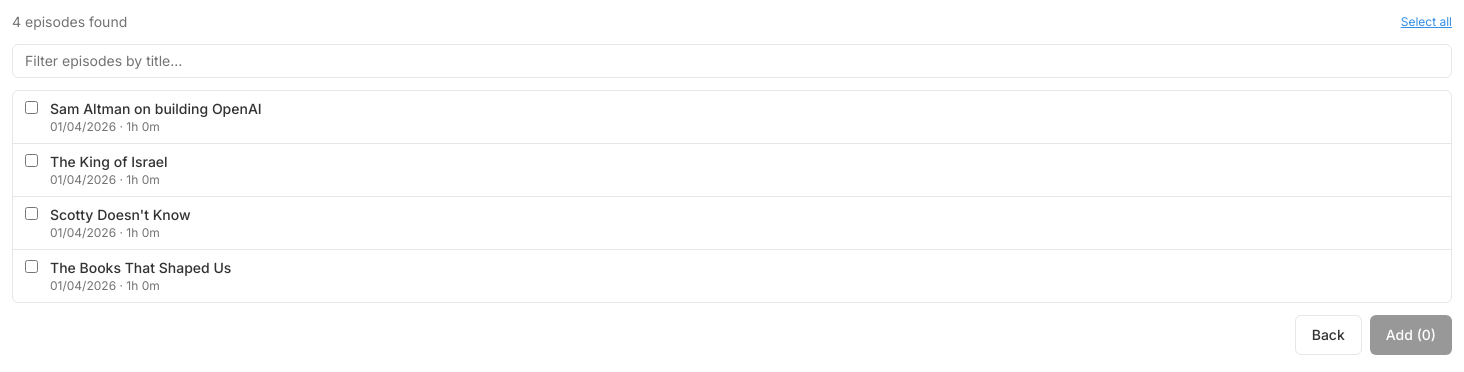
Test: episode filter (#982) › shows an empty state when nothing matches
The image size is (1464, 372).
Type "zzzz" into the field with placeholder "Filter episodes by title..." at x=732, y=61, box [12, 44, 1452, 78]
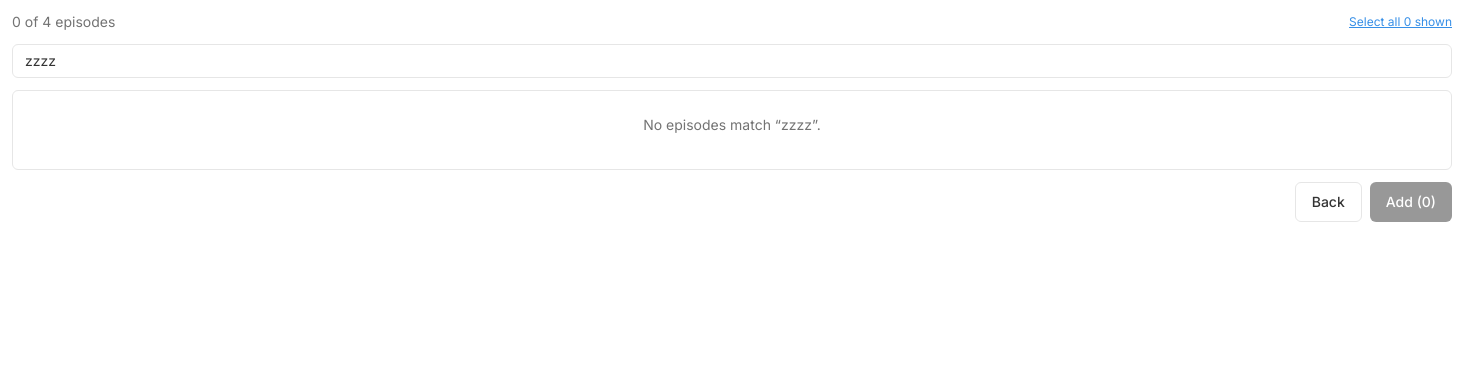
Expected: the text "No episodes match “zzzz”." is shown, [643, 116, 821, 133]
Expected: the text "The King of Israel" is gone
